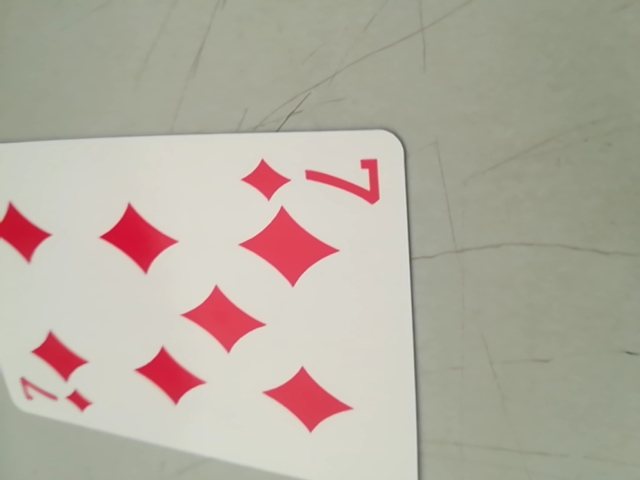fk 7: (243, 148, 386, 207), (11, 375, 93, 417)
